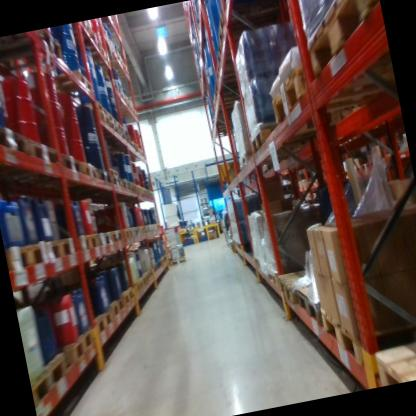pallet: (262, 46, 400, 138), (293, 0, 391, 81), (319, 296, 416, 376), (214, 0, 298, 53), (248, 113, 331, 163), (0, 26, 70, 77), (25, 346, 75, 409), (42, 63, 98, 115), (0, 108, 37, 179), (5, 232, 54, 283), (274, 261, 326, 309), (41, 224, 86, 279), (295, 276, 337, 334), (22, 124, 63, 180), (371, 335, 416, 386), (58, 326, 100, 370), (214, 33, 252, 73), (261, 256, 300, 293), (211, 51, 249, 88), (76, 223, 106, 262), (83, 308, 116, 342), (59, 143, 82, 183), (103, 294, 128, 328), (78, 154, 99, 188), (95, 161, 115, 194), (79, 97, 108, 119), (98, 223, 116, 257), (116, 285, 138, 312), (90, 107, 110, 132), (168, 251, 189, 271), (110, 222, 123, 251), (107, 171, 122, 193), (121, 223, 134, 246), (108, 120, 121, 141), (350, 162, 363, 180), (109, 162, 121, 180), (105, 108, 117, 124), (359, 161, 372, 174), (343, 167, 350, 178), (117, 123, 124, 131)
